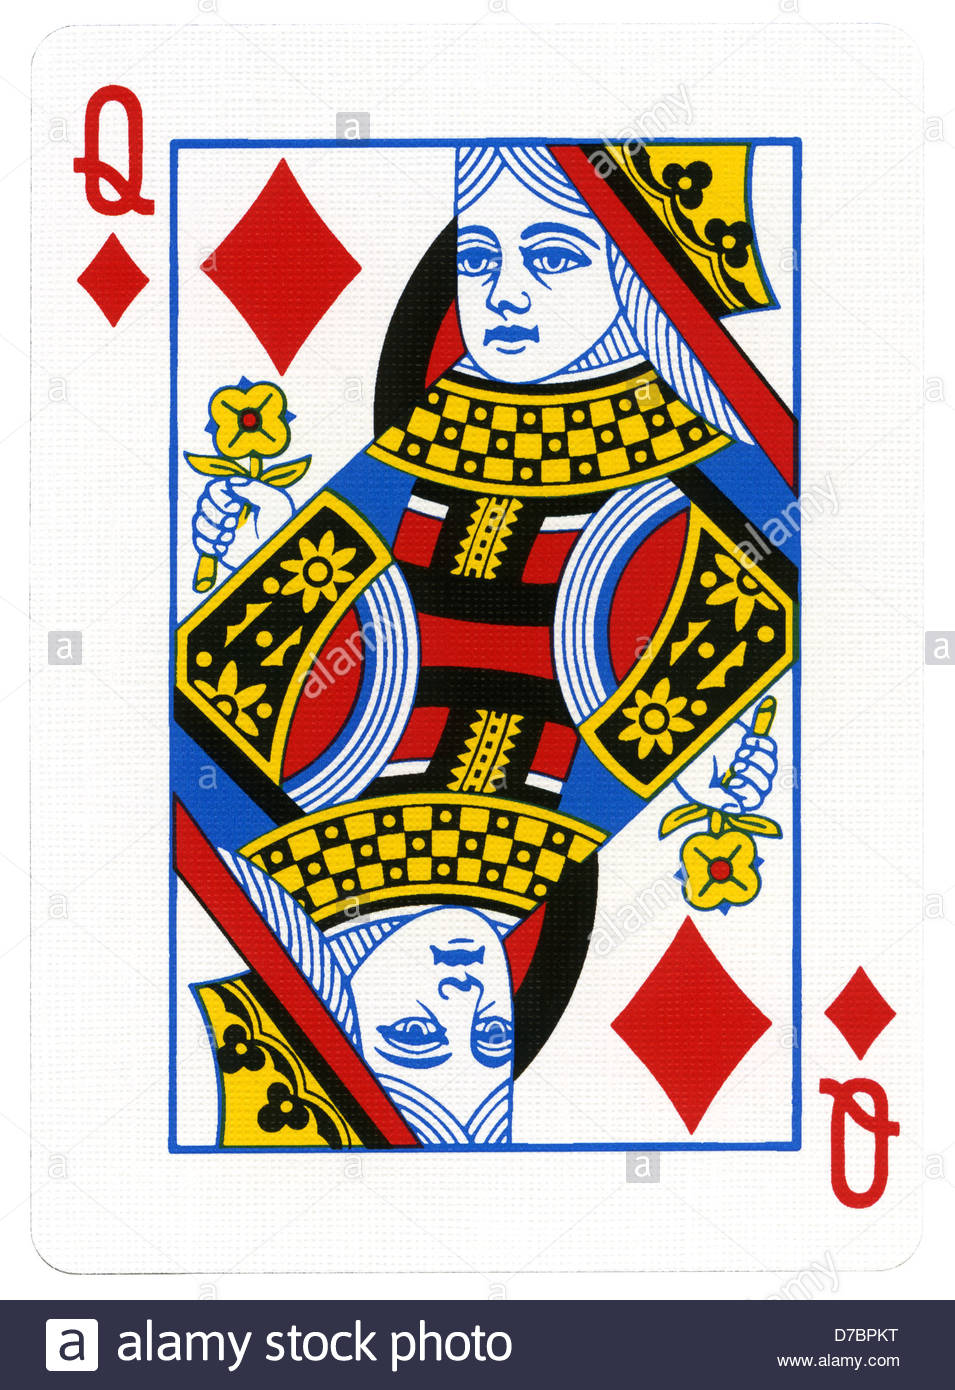queen of diamonds: (25, 45, 923, 1260)
